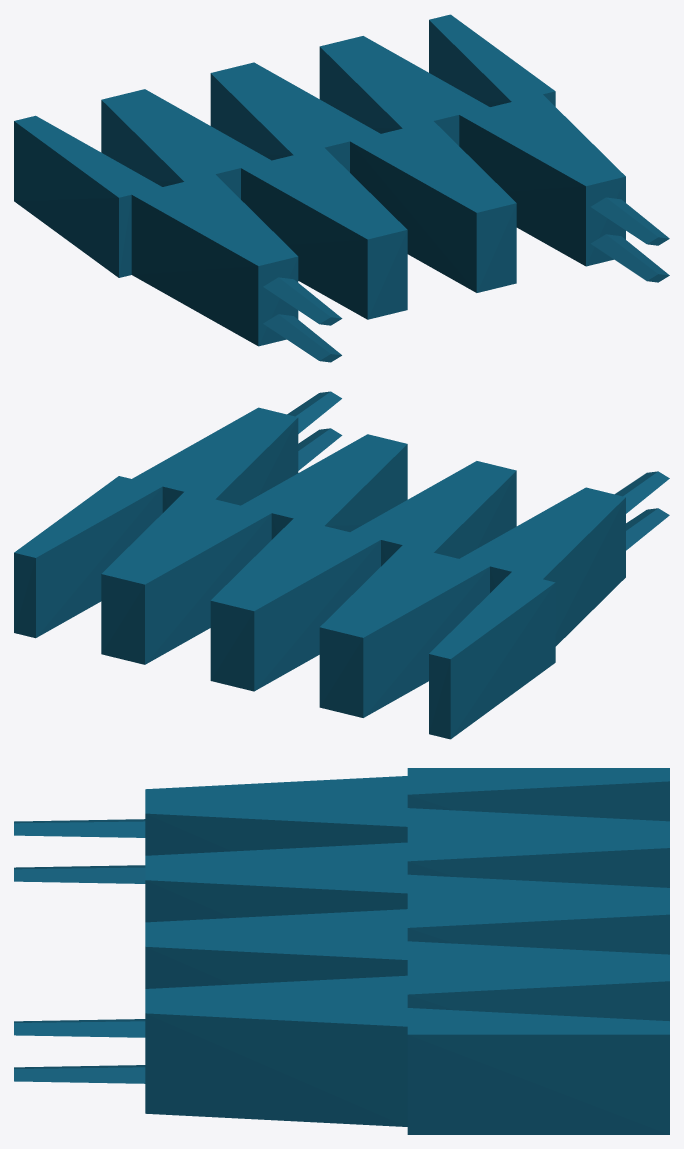
File: scrap-iron-sky.glb
The picture shows the model from 3 angles, top to bottom: view 1: azimuth 30°, elevation 25°; view 2: azimuth 150°, elevation 25°; view 3: azimuth 270°, elevation 25°; orthographic projection. The views are drawn at different scales.
Visible parts, largest first — view 1: scrap-iron-sky; view 2: scrap-iron-sky; view 3: scrap-iron-sky.
Part boxes in pixels (bbox=[...]): scrap-iron-sky: bbox=[14, 14, 669, 362]; scrap-iron-sky: bbox=[14, 391, 669, 739]; scrap-iron-sky: bbox=[14, 768, 669, 1134].
Bounding box in the file's own units: 0.74 × 0.13 × 0.77.
